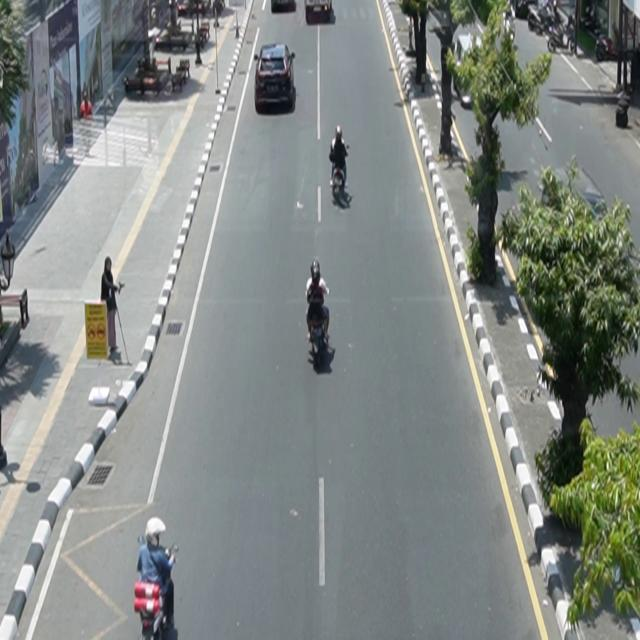car: (255, 43, 296, 114), (451, 33, 484, 110), (306, 1, 333, 24)
